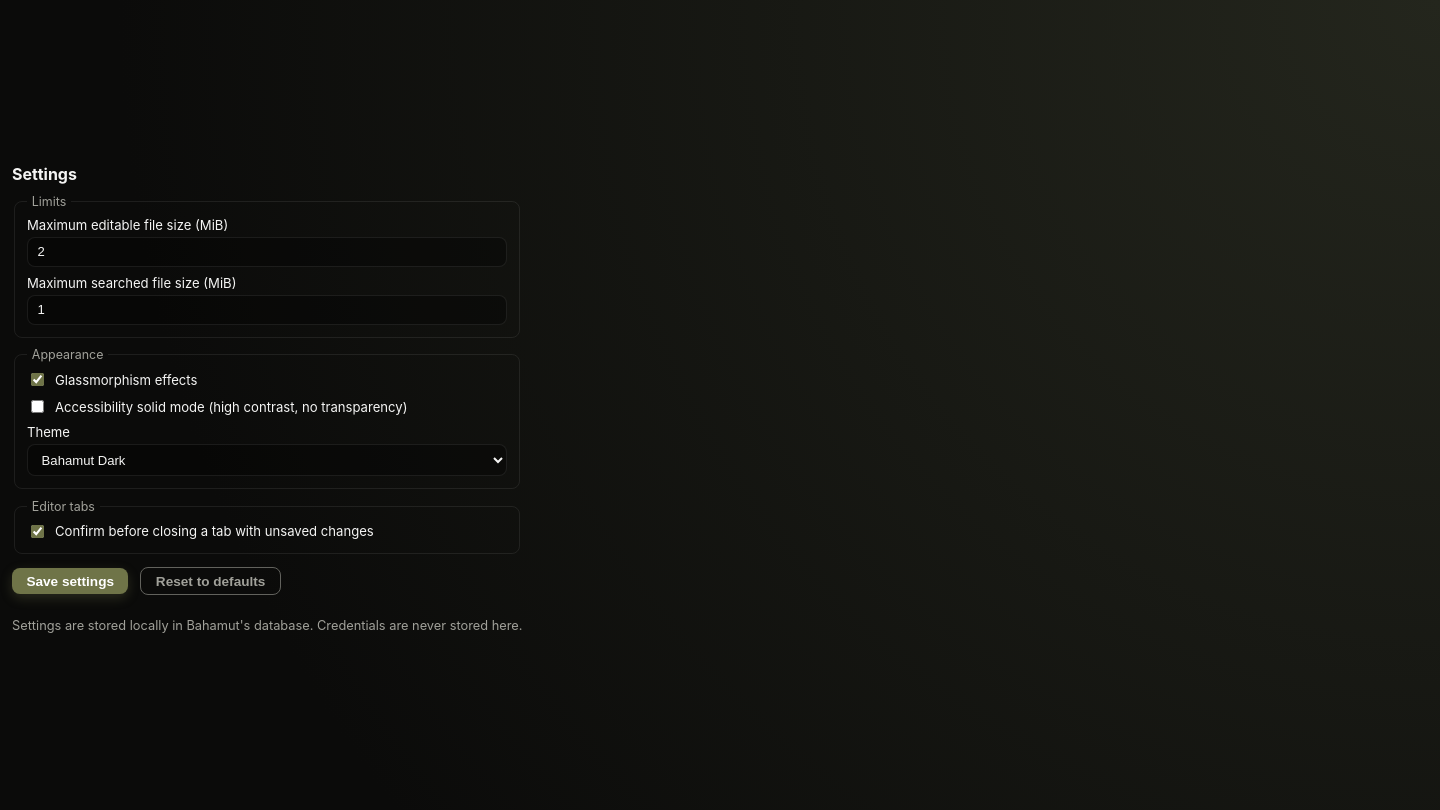
SettingsPanel › resets to defaults via the backend
Step 1. Click the button "Reset to defaults" → point(211, 581), box [140, 567, 281, 595]
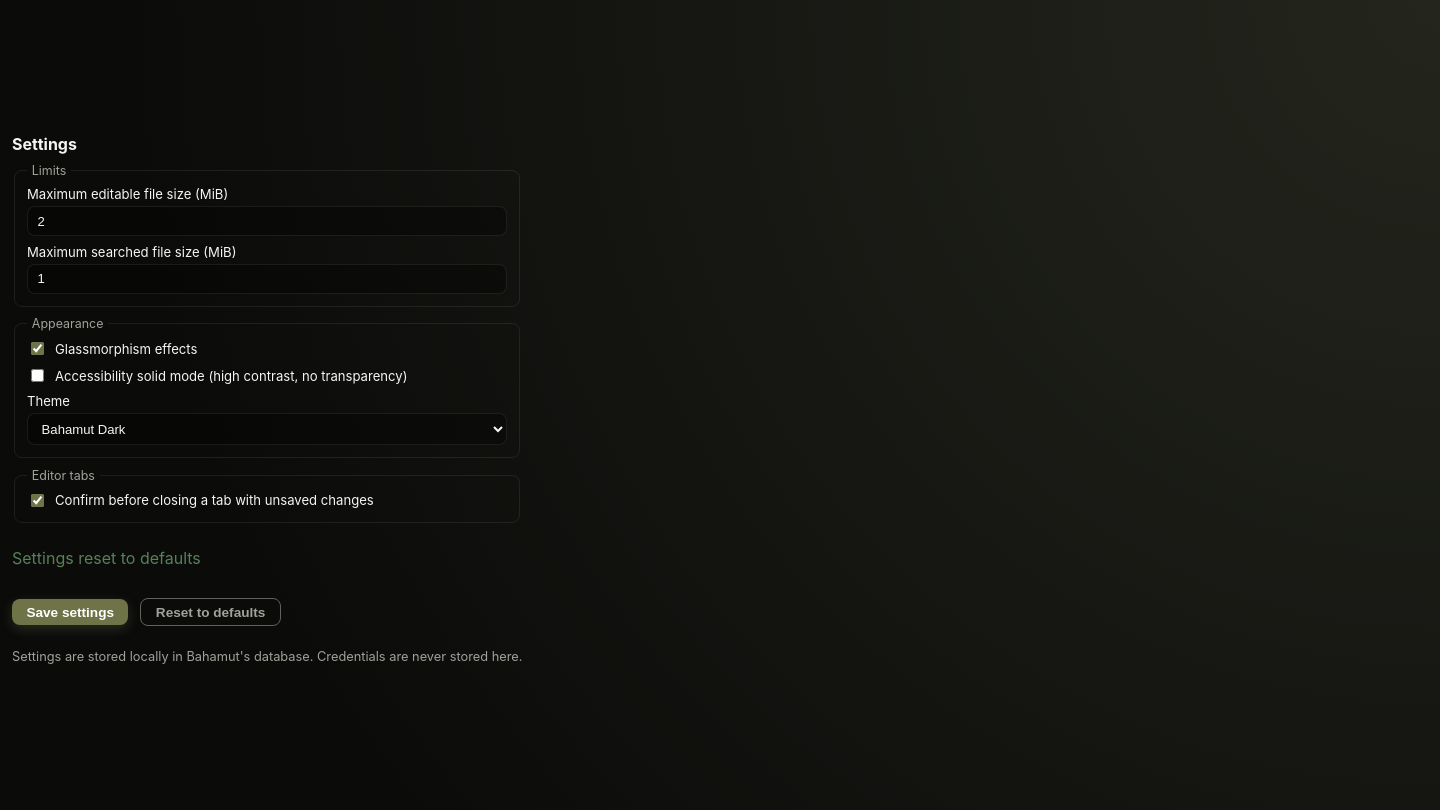
Expected: the text "Settings reset to defaults" is shown, [12, 548, 201, 568]
